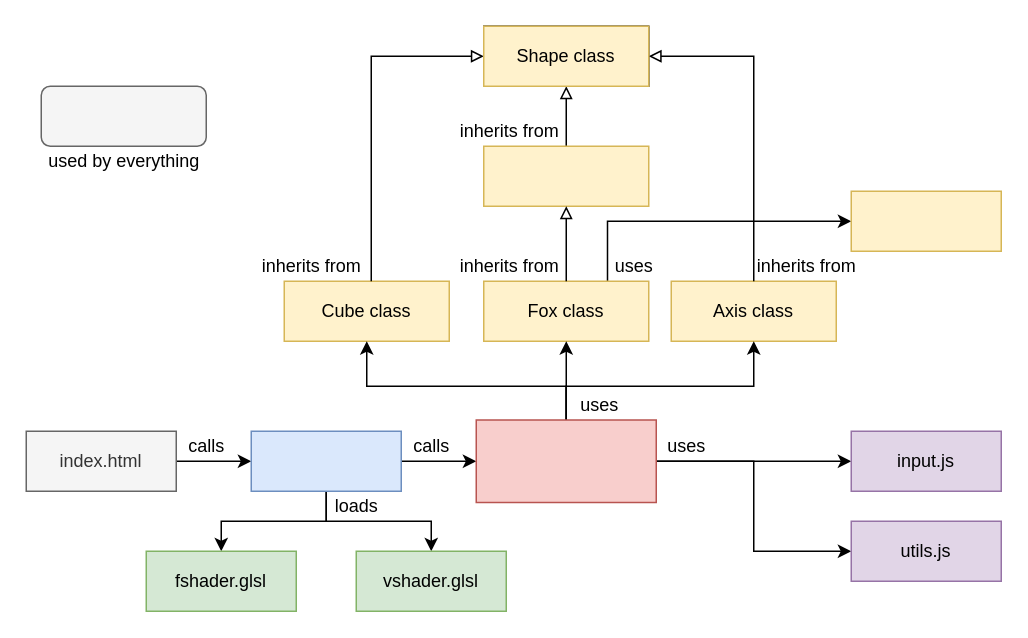
Image size: 1028x638. Some labels were removed from this diagram. The centre of each missing label's shape, as x and y in pixels:
"Animal class" belongs at (x=565, y=175).
"Animation class" belongs at (x=925, y=220).
"init.js" belongs at (x=325, y=460).
"libs/*" belongs at (x=123, y=115).
"main.js" belongs at (x=565, y=460).
